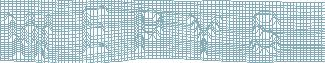E: (81, 5, 111, 56)
S: (248, 9, 282, 58)
W: (2, 11, 57, 63)
Y: (183, 12, 223, 61)
p: (133, 7, 164, 57)
